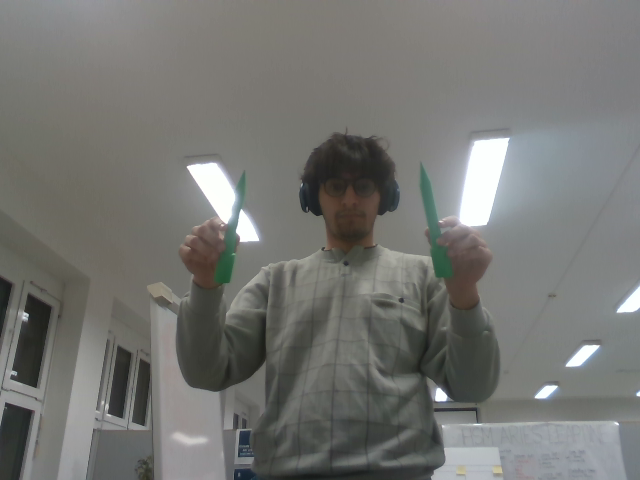Probe: (412, 159, 457, 279), (210, 168, 249, 284)
